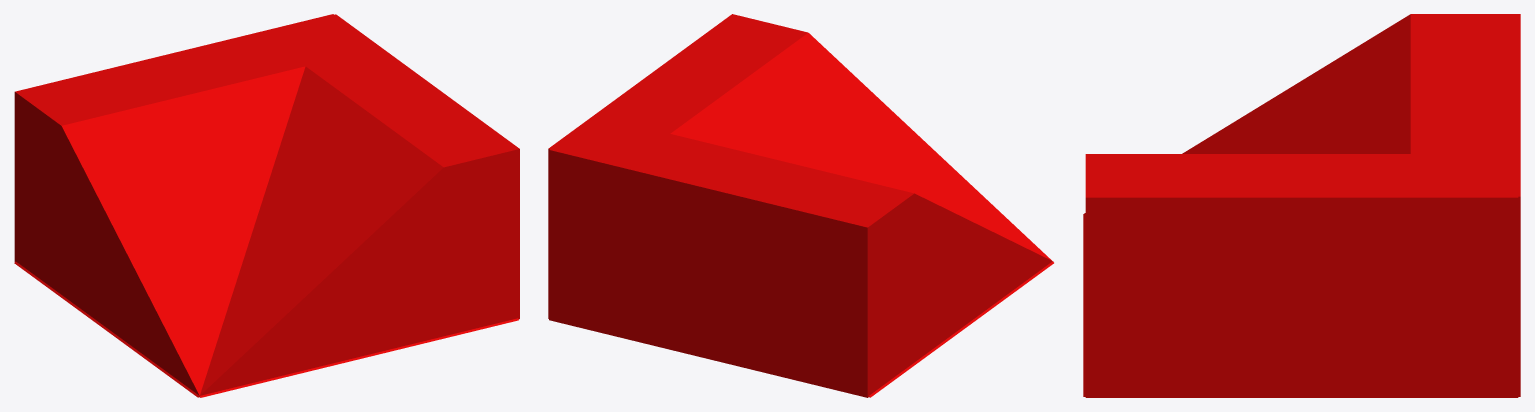
File: SM_Env_StormCanal_Corner_Concave_01_Collision.fbx
3 renders of one model, left to right at view 1: azimuth 30°, elevation 25°; view 2: azimuth 150°, elevation 25°; view 3: azimuth 270°, elevation 25°, orthographic. The views are drawn at different scales.
Parts seen in each view (by area): view 1: SM_Env_StormCanal_Corner_Concave_01_Collision; view 2: SM_Env_StormCanal_Corner_Concave_01_Collision; view 3: SM_Env_StormCanal_Corner_Concave_01_Collision.
Boxes of the visible parts, <box> form: SM_Env_StormCanal_Corner_Concave_01_Collision: <box>14,14,519,397</box>; SM_Env_StormCanal_Corner_Concave_01_Collision: <box>548,14,1053,397</box>; SM_Env_StormCanal_Corner_Concave_01_Collision: <box>1083,14,1520,397</box>.
Size of the model in its own units: 514 by 259 by 514.
